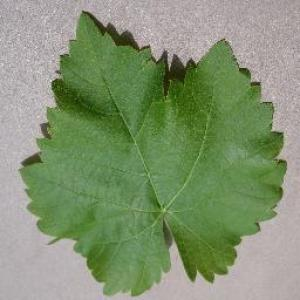Folha: (18, 10, 287, 296)
